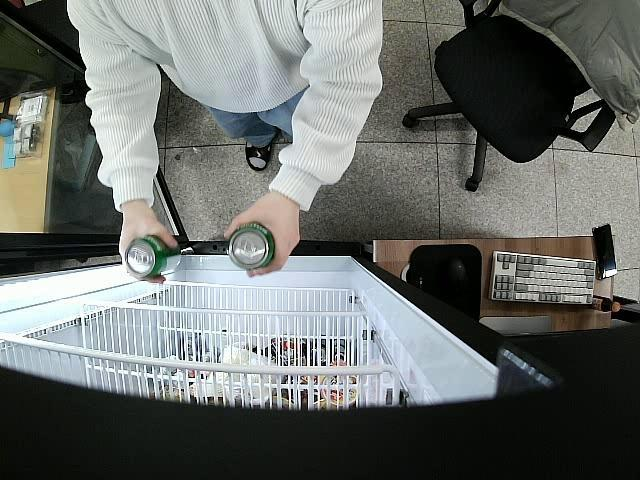12_chilsungCider: (124, 234, 182, 278), (228, 223, 277, 272)
